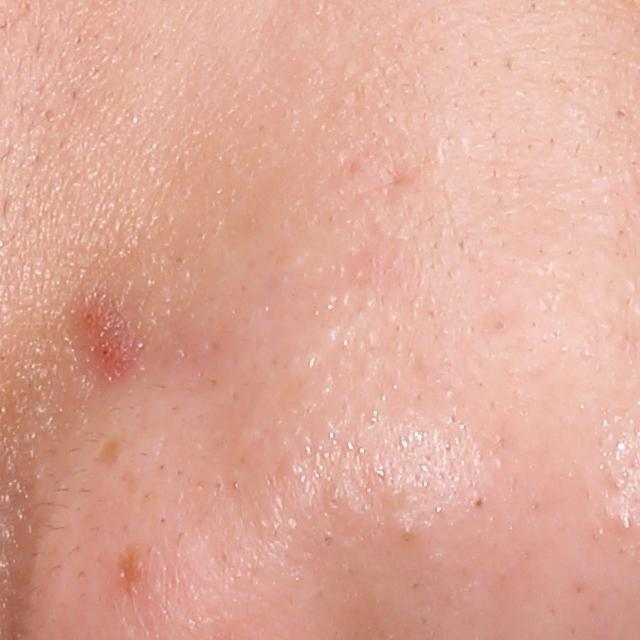comedo: (612, 512, 638, 537), (469, 493, 491, 513)
